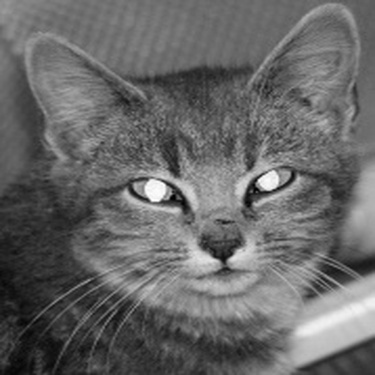cat: (1, 13, 346, 368)
